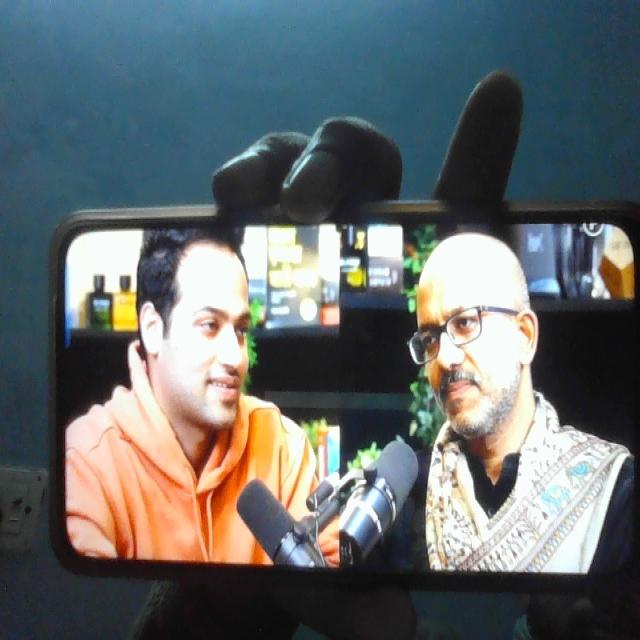fake: (126, 176, 268, 445), (412, 211, 540, 452)
